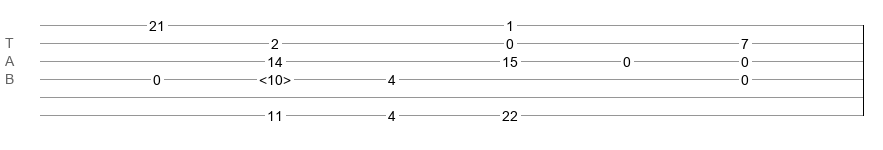0: (153, 72, 161, 82), (506, 36, 514, 46), (623, 54, 631, 64), (741, 54, 749, 64), (741, 72, 749, 82)
1: (506, 18, 514, 28)
11: (267, 108, 283, 118)
14: (267, 54, 283, 64)
15: (502, 54, 518, 64)
2: (271, 36, 279, 46)
21: (149, 18, 165, 28)
22: (502, 108, 518, 118)
4: (388, 72, 396, 82), (388, 108, 396, 118)
7: (741, 36, 749, 46)
harmonic: (259, 72, 291, 82)
